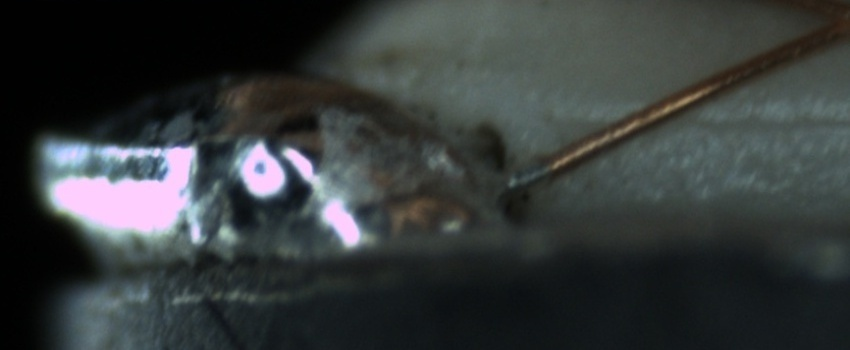CL: (808, 2, 849, 43)
DL: (603, 86, 849, 154)
TS: (506, 161, 549, 192)
